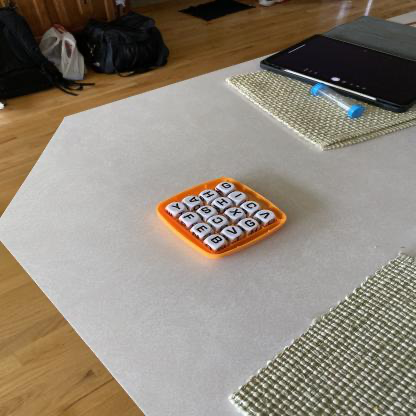a: (187, 197, 202, 205)
b: (210, 236, 225, 247)
c: (211, 217, 226, 227), (245, 202, 259, 211)
e: (196, 224, 211, 235)
f: (182, 213, 196, 222)
g: (243, 219, 258, 230), (220, 182, 235, 192)
h: (202, 190, 218, 200), (216, 198, 231, 208)
i: (233, 193, 245, 201)
s: (200, 207, 215, 216)
v: (226, 226, 240, 237), (261, 212, 272, 221)
x: (229, 209, 244, 218)
y: (168, 202, 185, 213)
